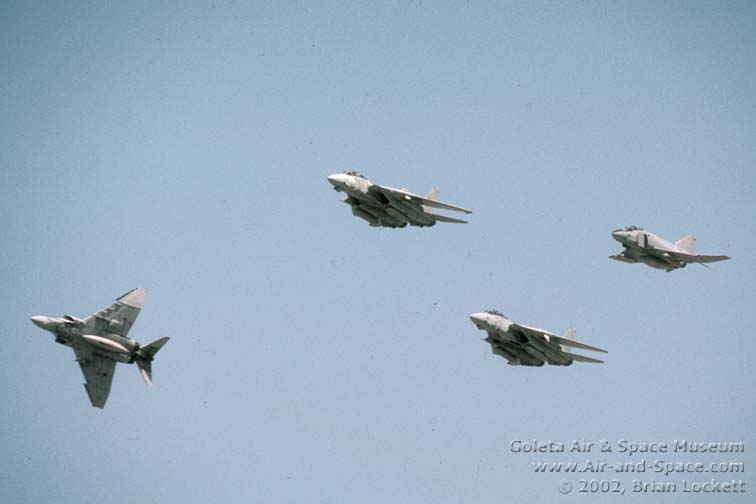F14: (326, 169, 473, 230), (468, 308, 609, 367)
F4: (30, 287, 171, 409), (607, 224, 732, 273)
